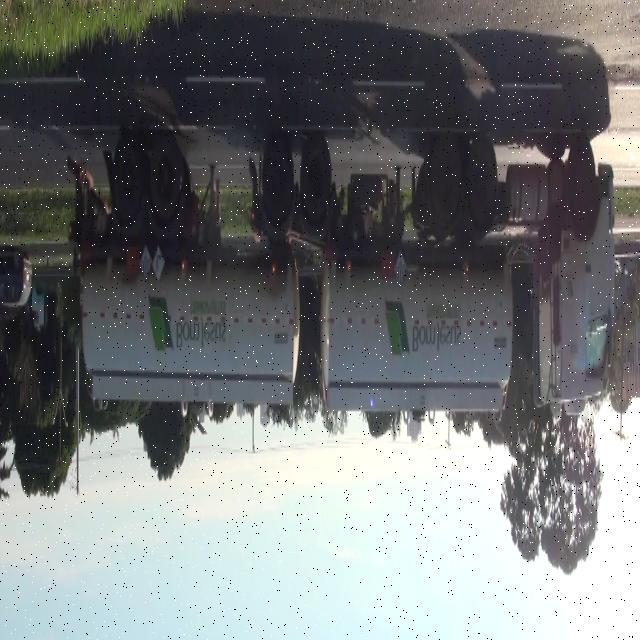-axle: (299, 135, 333, 228), (261, 137, 294, 225), (148, 139, 182, 223), (468, 139, 499, 223), (115, 142, 148, 218), (570, 134, 598, 222), (430, 140, 460, 217)
